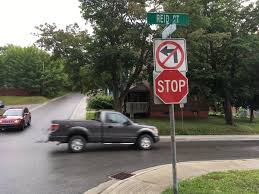No_left_turn: (155, 41, 185, 70)
